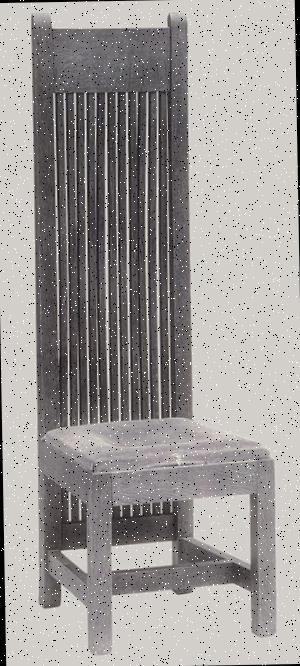Silla: (28, 18, 280, 650)
